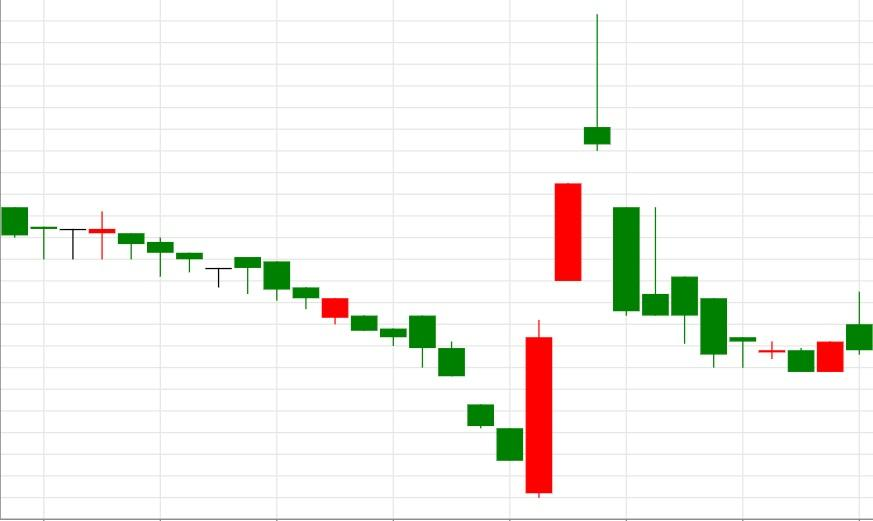bullish_engulfing_rise: (0, 206, 553, 498), (583, 13, 845, 373)
